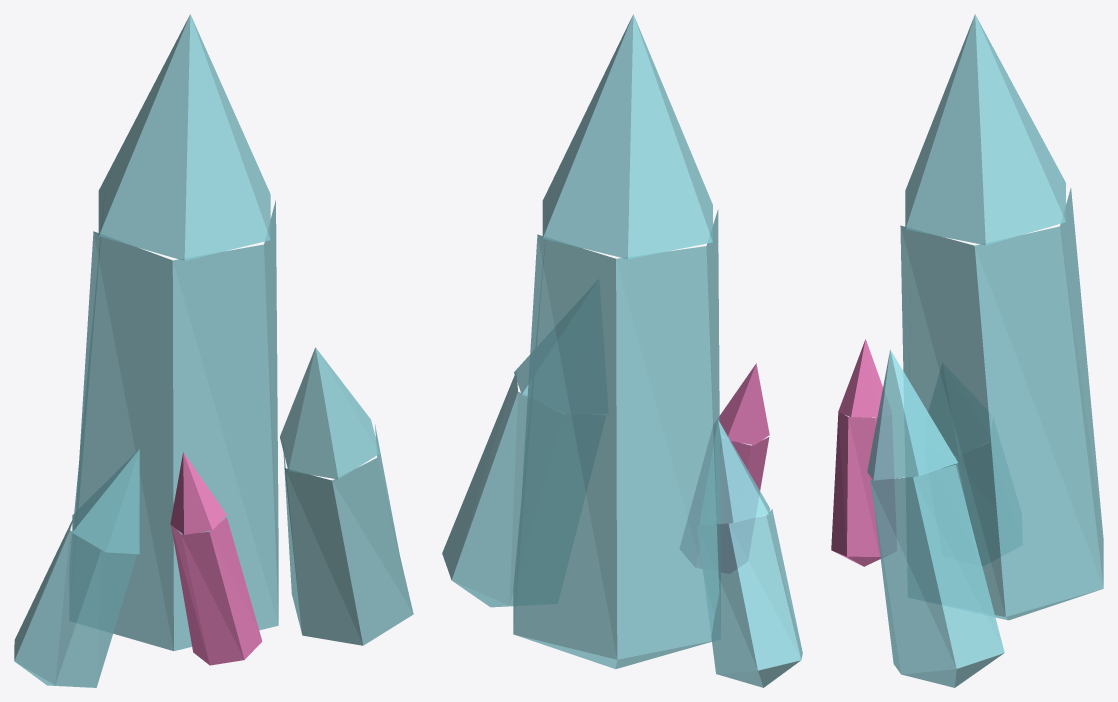
File: crystal.glb
3 views of the same model, side by side, from view 1: azimuth 30°, elevation 25°; view 2: azimuth 150°, elevation 25°; view 3: azimuth 270°, elevation 25° (orthographic). The views are drawn at different scales.
Visible parts, largest first — view 1: crystal; view 2: crystal; view 3: crystal.
Part boxes in pixels (box(x1,y1,x2,y2)): crystal: box(14, 14, 413, 687); crystal: box(442, 14, 802, 687); crystal: box(831, 14, 1103, 687).
Size of the model in its own units: 0.8604 by 1.42 by 0.5776.
